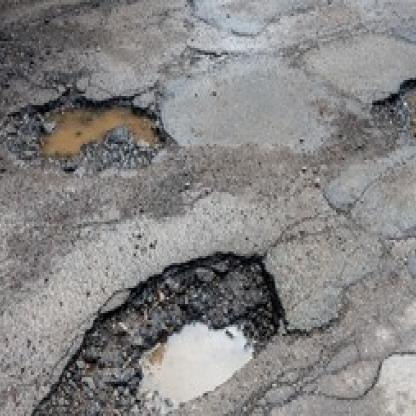pothole: (36, 249, 282, 416), (0, 87, 177, 174), (367, 64, 416, 144)
